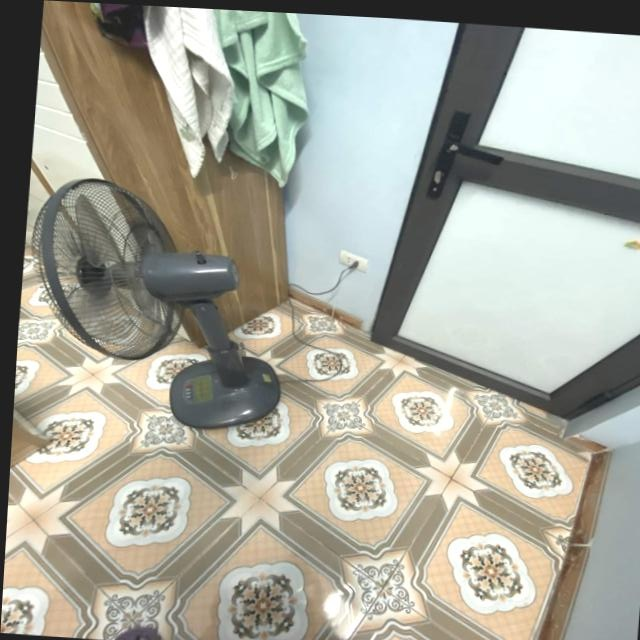outlet: (338, 250, 369, 275)
